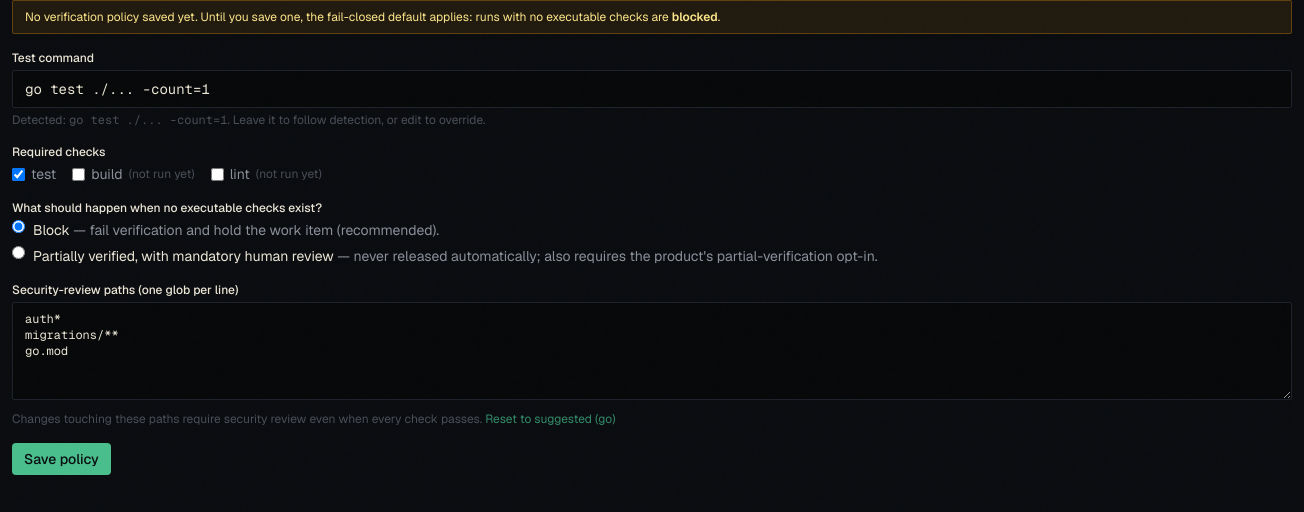
Test case: VerificationPolicyForm › warns that requiring lint caps the outcome at partially verified
Click the checkbox named "Require lint". click: (217, 174)
box: [211, 168, 224, 180]
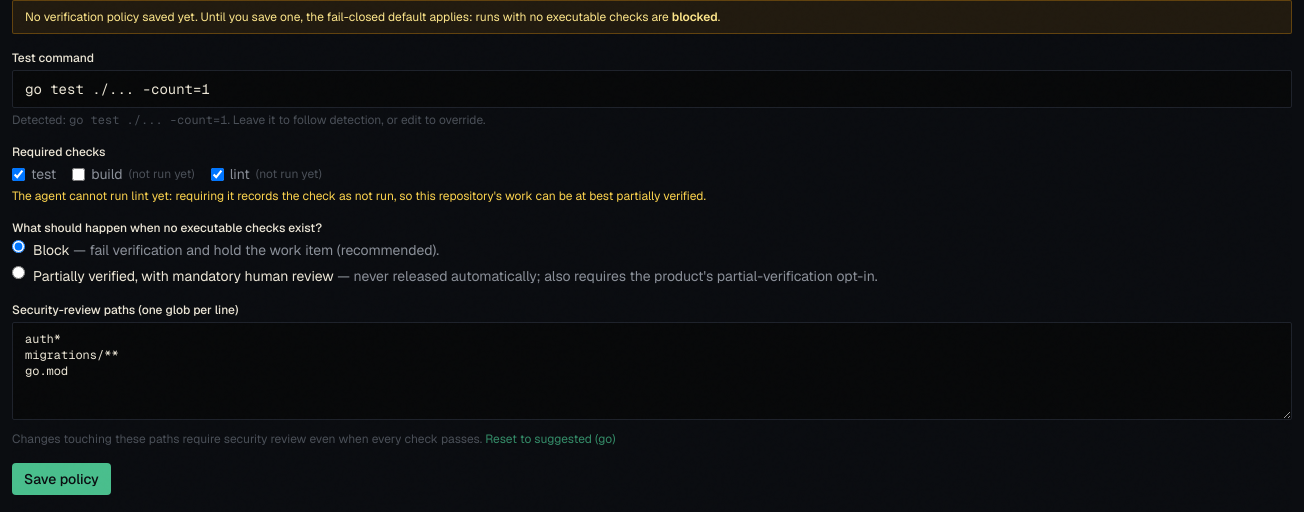
Result: the text with test id "vp-unimplemented" shows "lint" at [131, 188, 149, 204]
